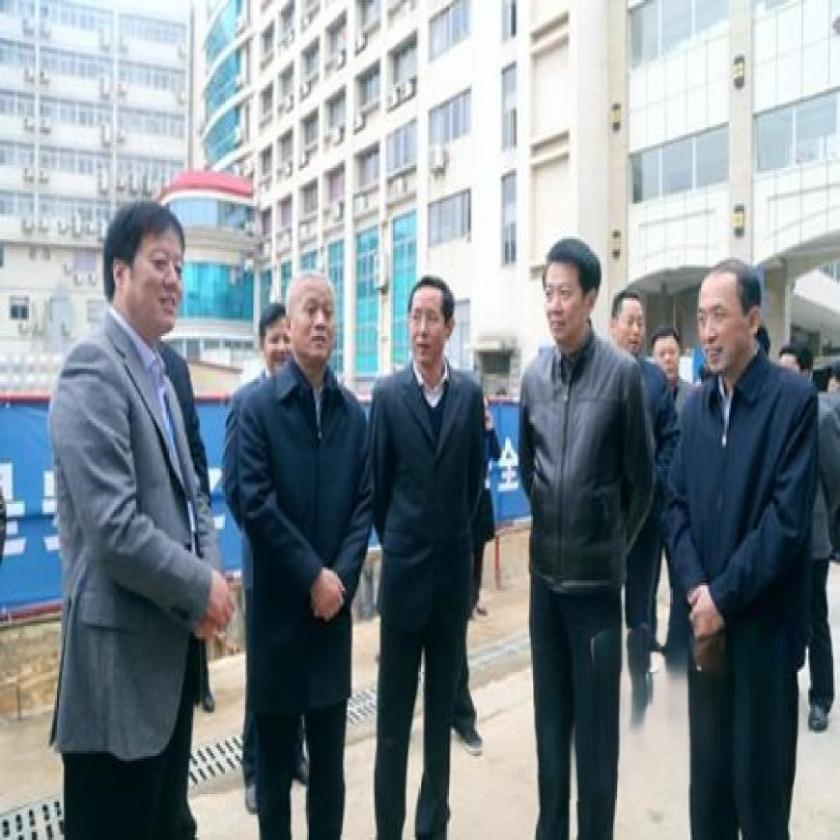Sin_casco: (102, 199, 200, 346), (540, 224, 617, 347), (280, 245, 344, 373), (688, 258, 759, 371), (406, 269, 469, 393)
